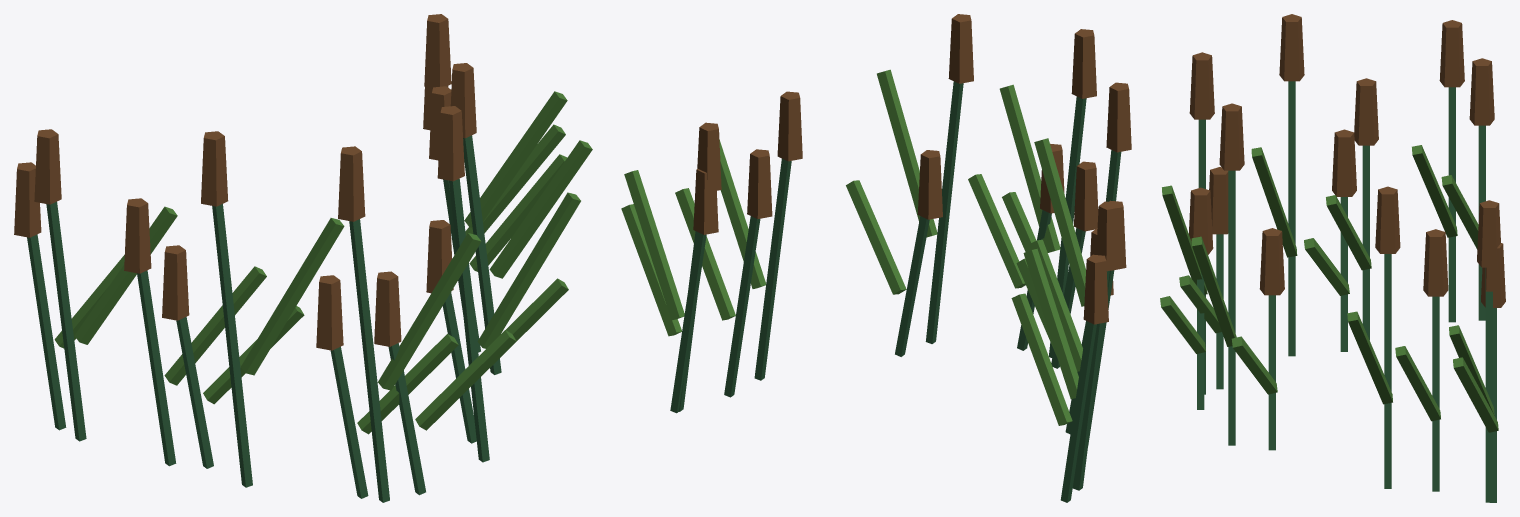
The model's file is RiverReeds.obj.
3 views of the same model, side by side, from view 1: azimuth 30°, elevation 25°; view 2: azimuth 150°, elevation 25°; view 3: azimuth 270°, elevation 25° (orthographic). The views are drawn at different scales.
Parts seen in each view (by area): view 1: RiverReeds; view 2: RiverReeds; view 3: RiverReeds.
Part boxes in pixels (<box>): RiverReeds: <box>14,14,592,502</box>; RiverReeds: <box>621,14,1131,502</box>; RiverReeds: <box>1160,14,1505,502</box>.
Bounding box in the file's own units: 1.9 × 1.21 × 1.18.
Materials: 1 (1 with a texture image).
